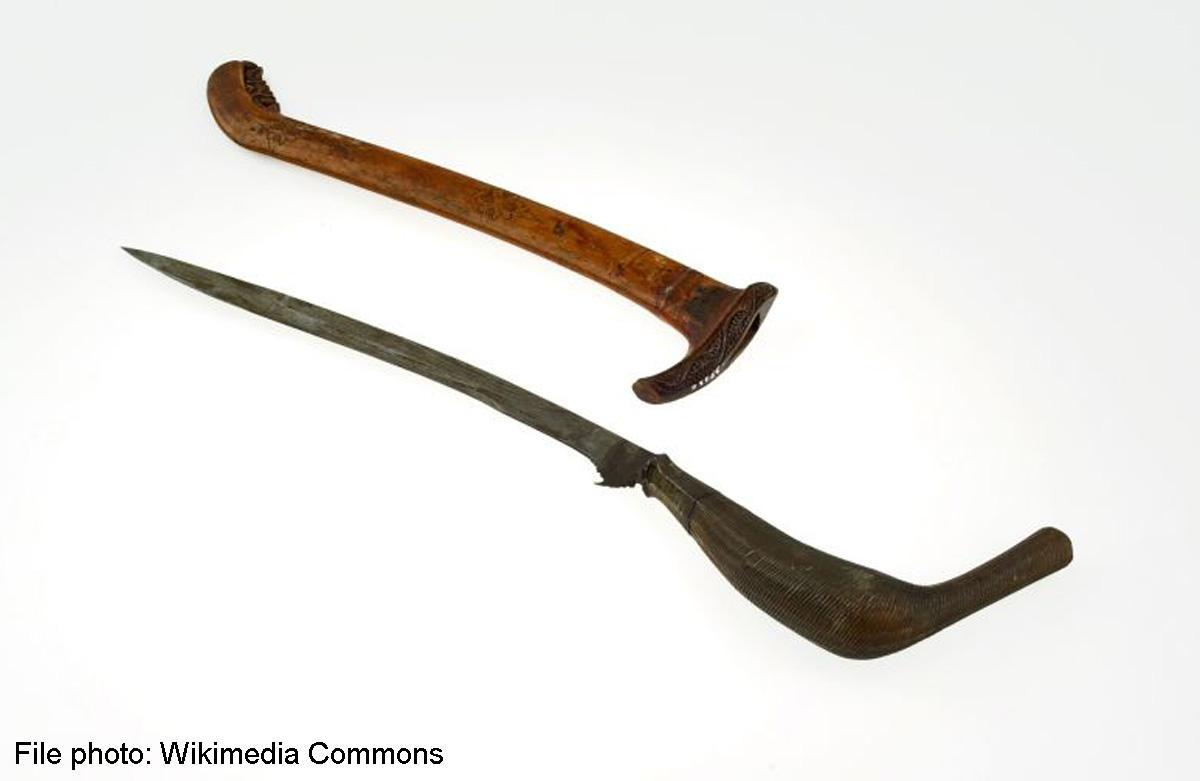facao: (127, 248, 1072, 658)
